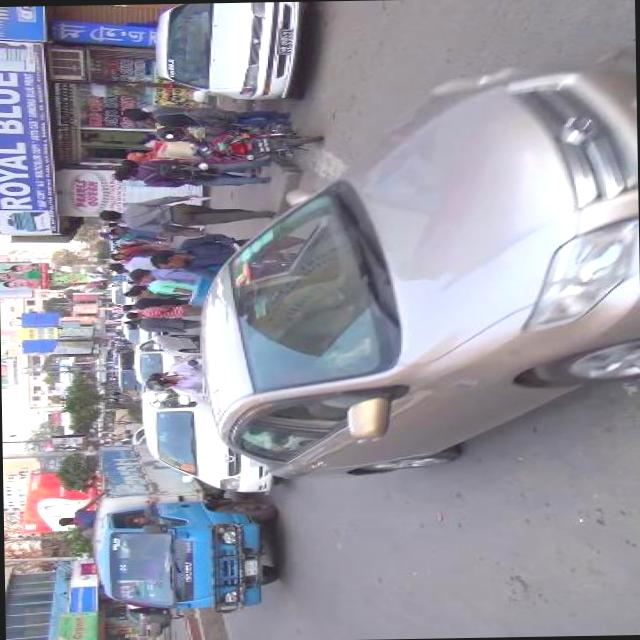car: (190, 35, 636, 482), (146, 1, 312, 103), (136, 395, 282, 493), (128, 332, 195, 371), (122, 606, 171, 640)
motorcycle: (153, 120, 323, 171)
truck: (88, 493, 284, 621)
